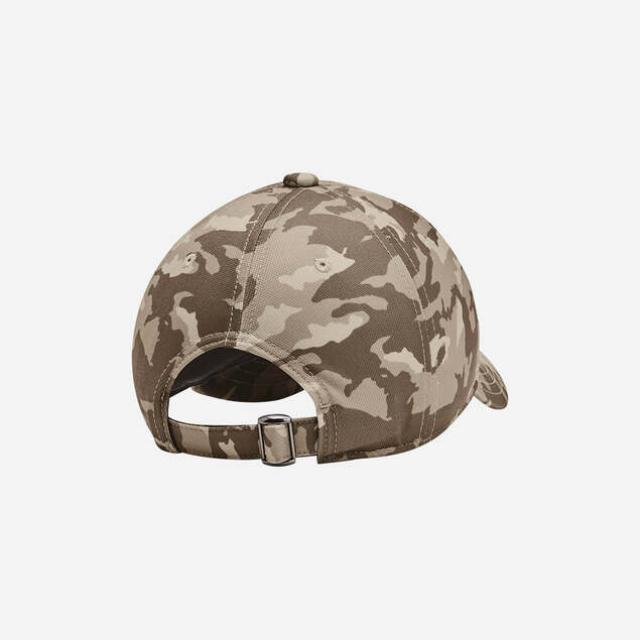no_helmet: (114, 152, 520, 480)
